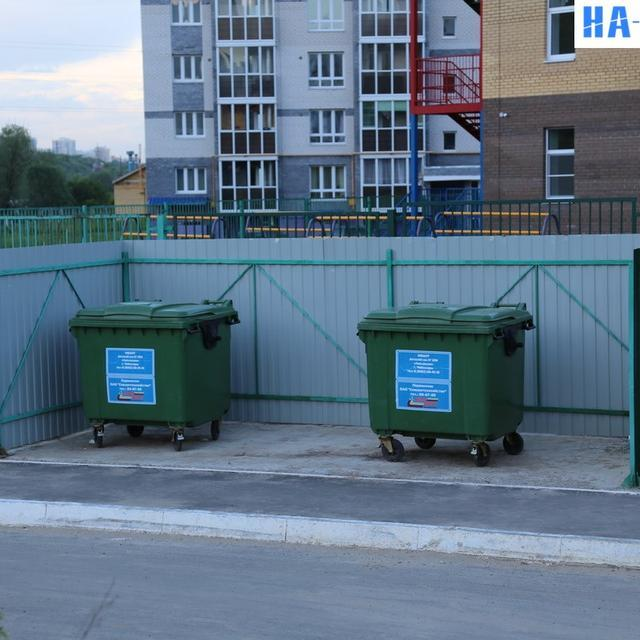Trash_Can_Closed: (357, 302, 535, 440), (70, 300, 241, 427)
